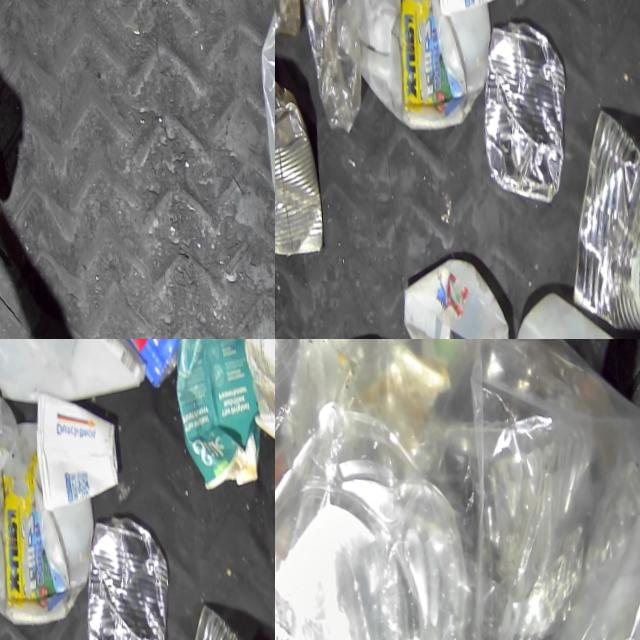can: (549, 93, 640, 339), (469, 8, 575, 204), (72, 503, 177, 640), (275, 61, 327, 269)
milk_jug: (327, 0, 500, 138), (0, 406, 103, 633), (393, 246, 509, 339), (0, 339, 147, 407), (494, 278, 640, 339)
non_white_jug: (164, 339, 264, 499)
plastic_bottle: (286, 0, 370, 143)
